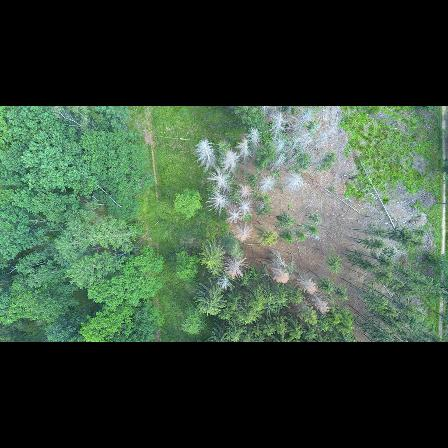Dead: (306, 122, 336, 156), (286, 108, 314, 143), (280, 137, 313, 165), (195, 138, 218, 167), (297, 274, 322, 297), (206, 191, 230, 214), (209, 168, 234, 189), (284, 168, 307, 189), (228, 256, 248, 280), (311, 293, 336, 311), (272, 264, 292, 286), (269, 114, 284, 142), (256, 177, 276, 197), (236, 181, 257, 200), (217, 270, 234, 291), (220, 149, 234, 174), (269, 150, 284, 172), (251, 126, 262, 154), (237, 139, 248, 165), (237, 202, 254, 217), (227, 208, 242, 224), (274, 138, 287, 154)
